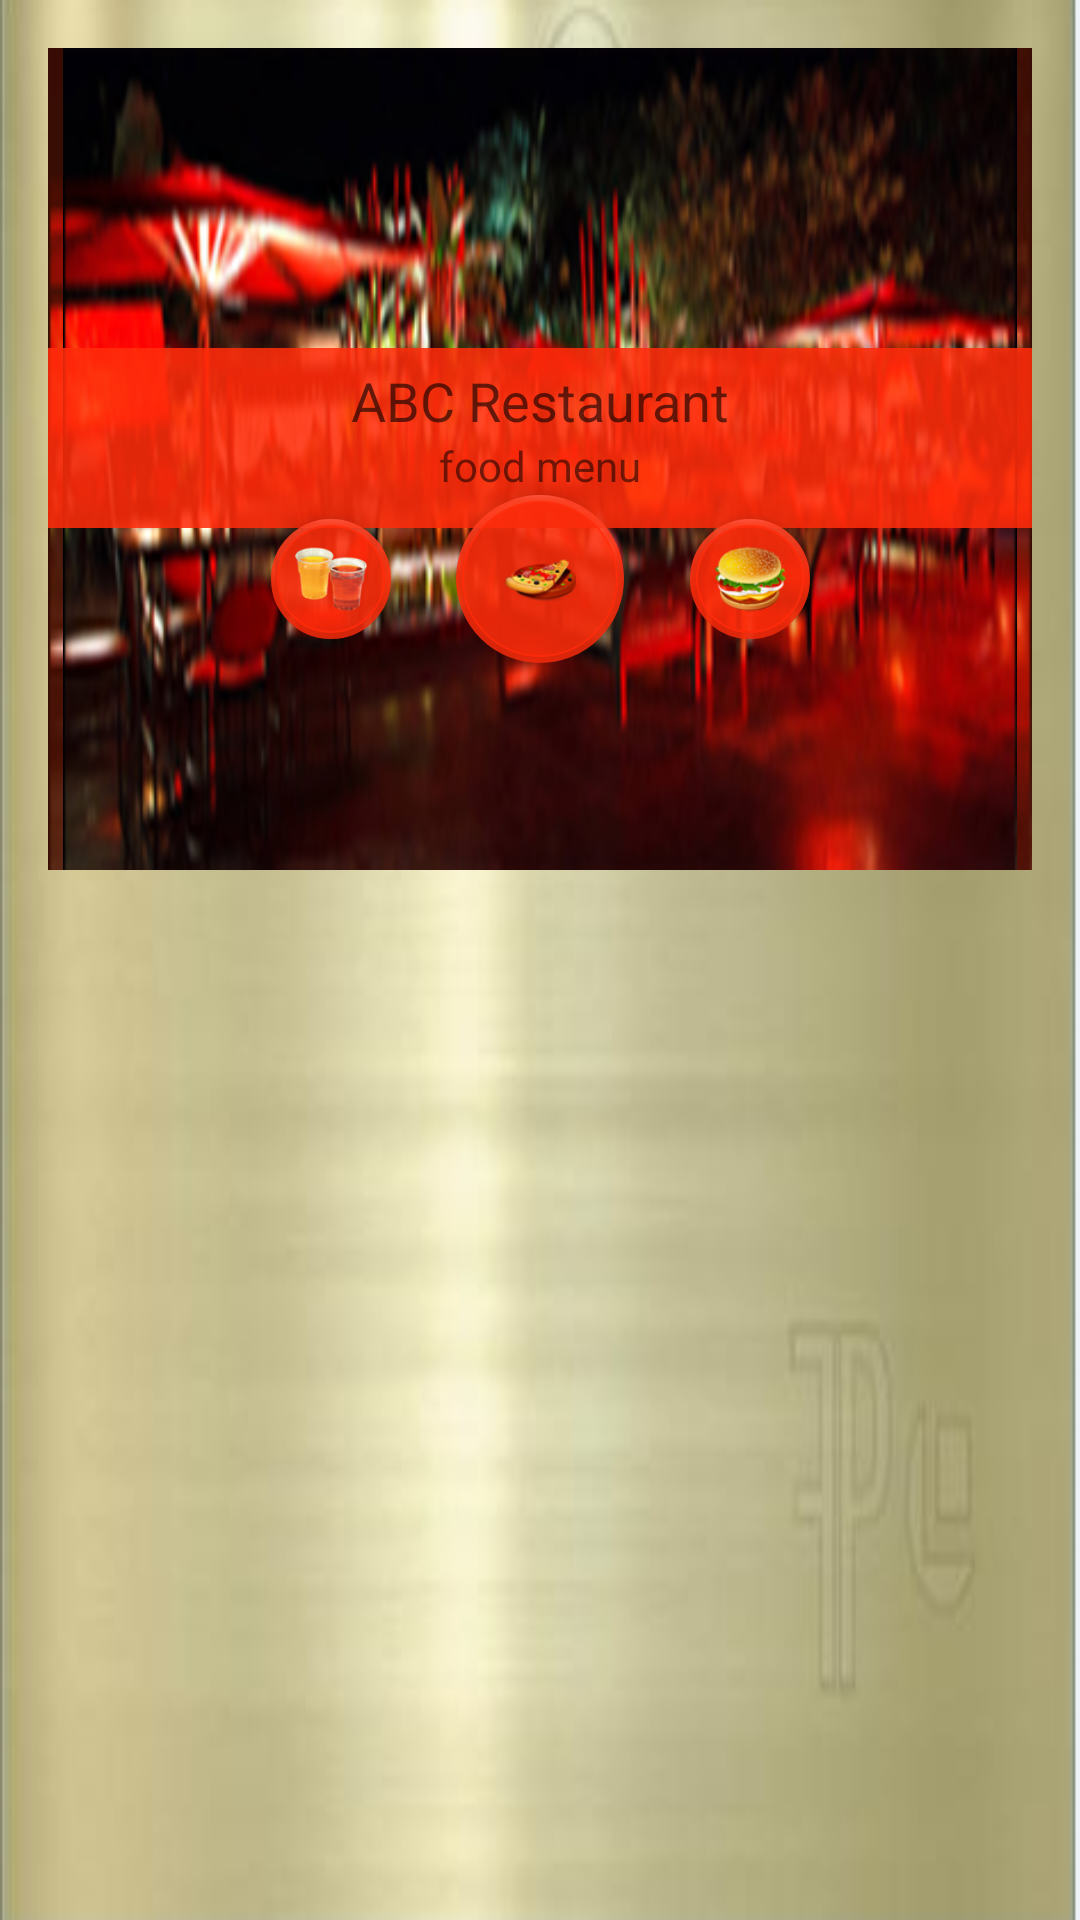

Named icons in this screenshot (1080 x 1920) and their centers, (x=x, y=y):
burger: (x=750, y=579)
colddrnk: (x=331, y=579)
piza: (x=540, y=579)
